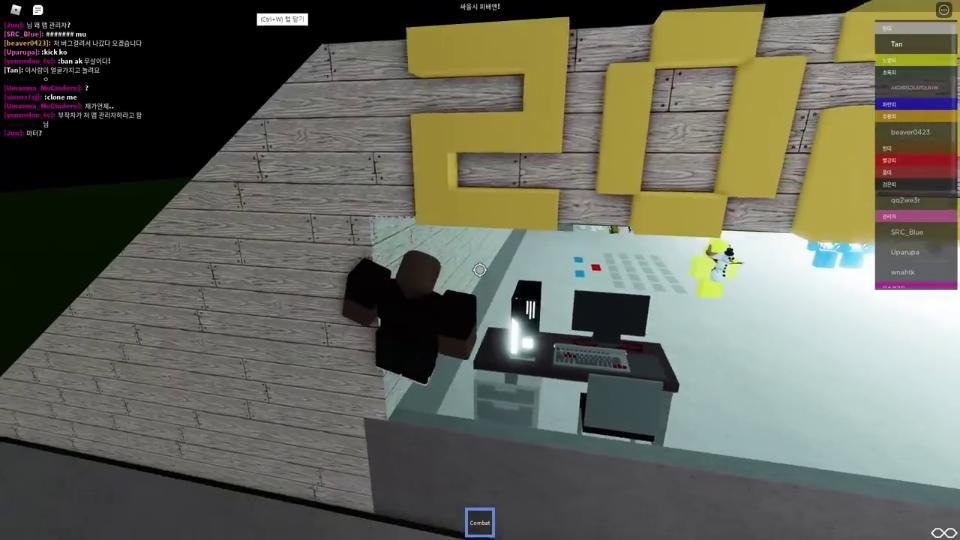Character: (343, 250, 477, 386), (690, 240, 737, 298)
